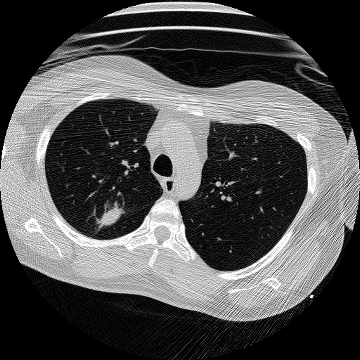nodule: (104, 209, 120, 225)
